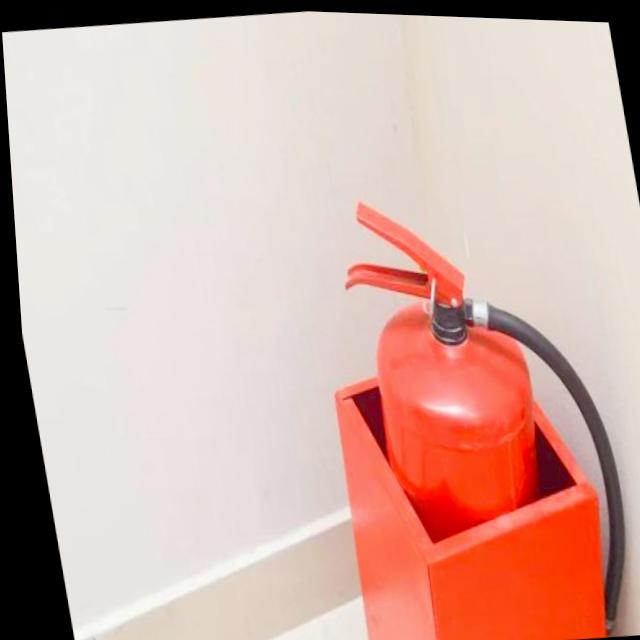FireExtinguisher: (320, 167, 639, 640)
